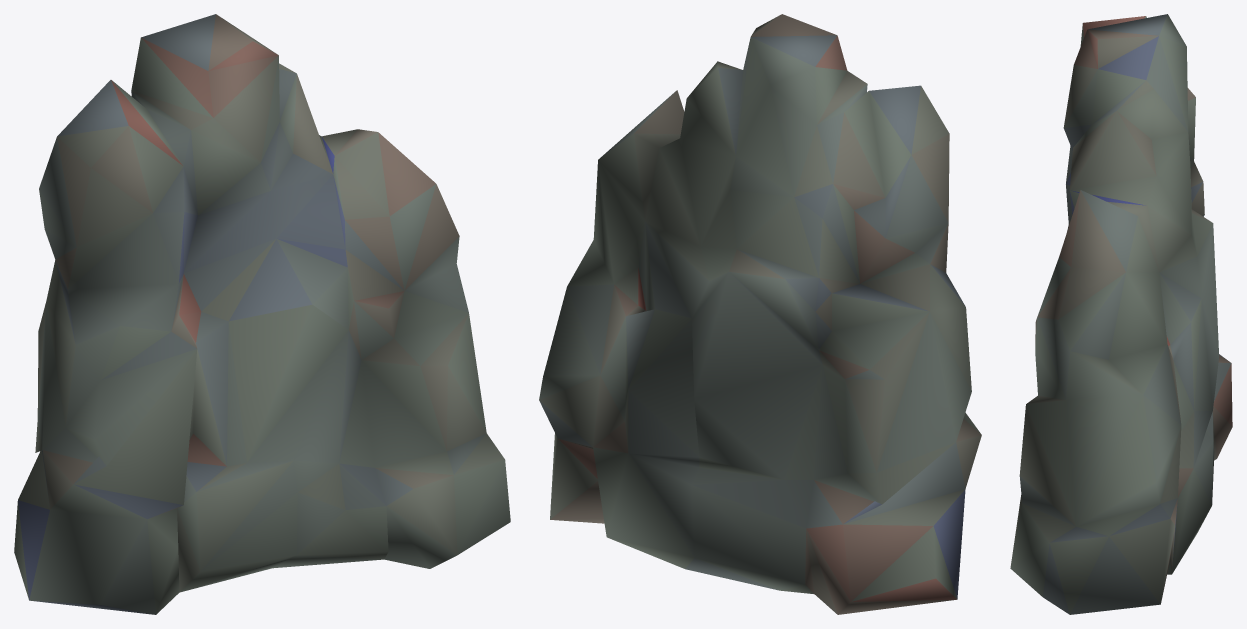
Rendered from rock_spire_clump_01_COL.fbx.
3 renders of one model, left to right at view 1: azimuth 30°, elevation 25°; view 2: azimuth 150°, elevation 25°; view 3: azimuth 270°, elevation 25°, orthographic. The views are drawn at different scales.
Visible parts, largest first — view 1: Rock_Spire_Clump_COL; view 2: Rock_Spire_Clump_COL; view 3: Rock_Spire_Clump_COL.
Boxes of the visible parts, x1=… form: Rock_Spire_Clump_COL: x1=14, y1=14, x2=510, y2=614; Rock_Spire_Clump_COL: x1=539, y1=14, x2=981, y2=614; Rock_Spire_Clump_COL: x1=1010, y1=14, x2=1232, y2=614.
Size of the model in its own units: 601 by 707 by 294.
